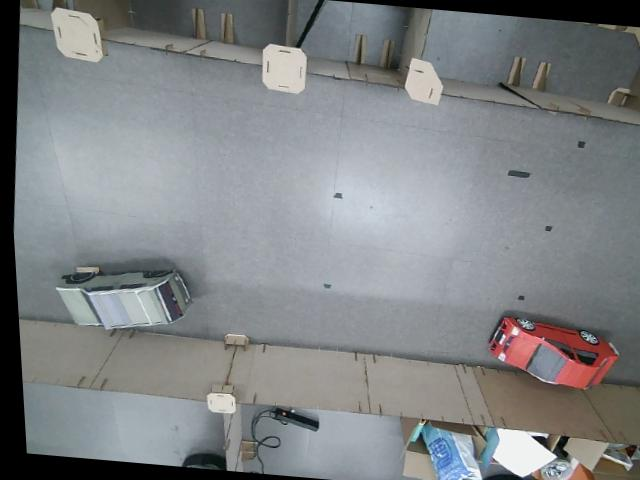car: (49, 259, 195, 337), (483, 312, 624, 392)
